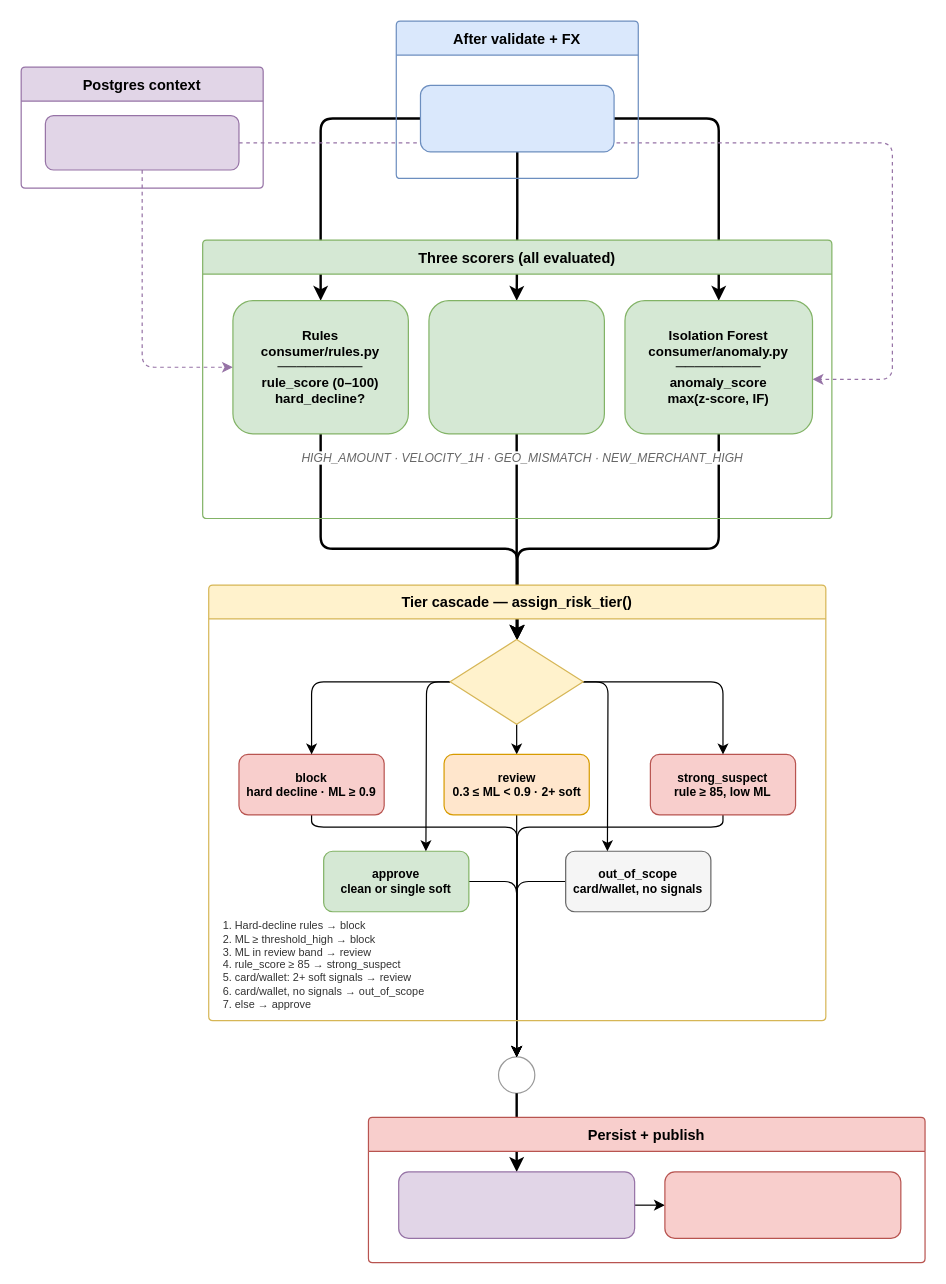
The diagram is 946 pixels wide and 1284 high, and some of its shapes have lost their labels. The centre of each missing label's shape, as x and y in pixels:
"Kafka transactions.scored" goes at (x=782, y=1204).
"Postgres transactions · risk_scores · fraud_flags" goes at (x=516, y=1204).
"Priority decision" goes at (x=516, y=681).
"TransactionEvent + amount_usd" goes at (x=516, y=118).
"User stats velocity · P95/P99 · merchants" goes at (x=141, y=142).
"XGBoost consumer/classifier.py ───────── ml_prob (bank_transfer only)" goes at (x=516, y=366).
